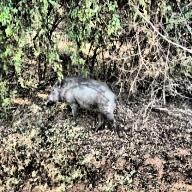boar: (41, 71, 127, 127)
